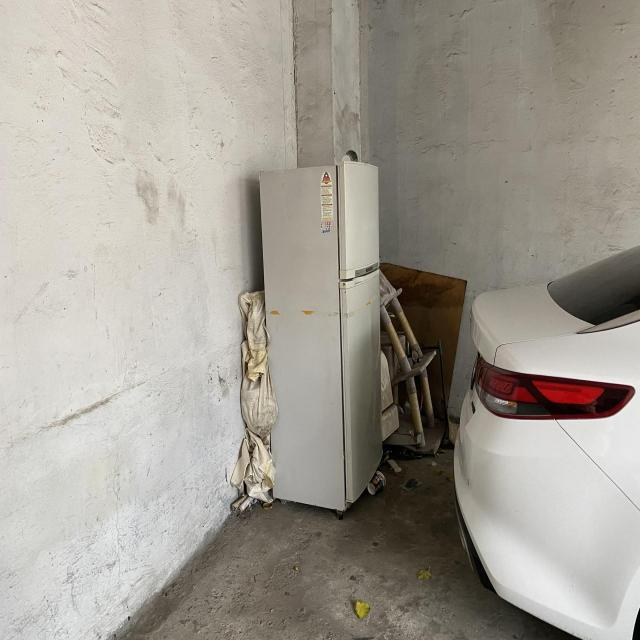refrigerator: (260, 161, 386, 521)
